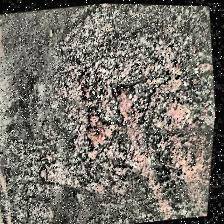pothole: (78, 80, 144, 160)
